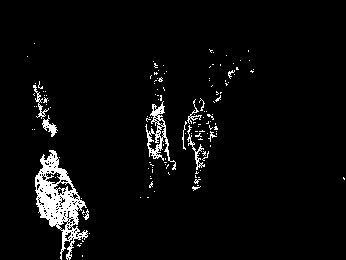person: (33, 149, 89, 260), (183, 98, 219, 191), (146, 101, 176, 188), (31, 80, 58, 137)
